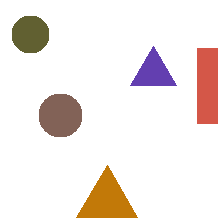circle: (39, 94, 81, 136), (12, 16, 48, 52)
rectangle: (197, 48, 217, 123)
triangle: (76, 165, 137, 217), (130, 46, 176, 85)
